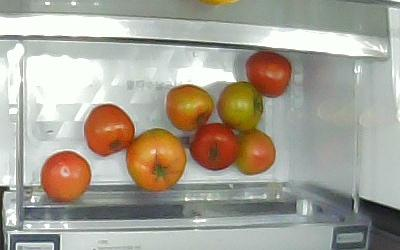tomato: (126, 128, 187, 191), (41, 151, 93, 202), (85, 104, 134, 157), (243, 50, 294, 99), (217, 81, 265, 132), (191, 125, 240, 172), (166, 85, 213, 133), (236, 130, 279, 175)
